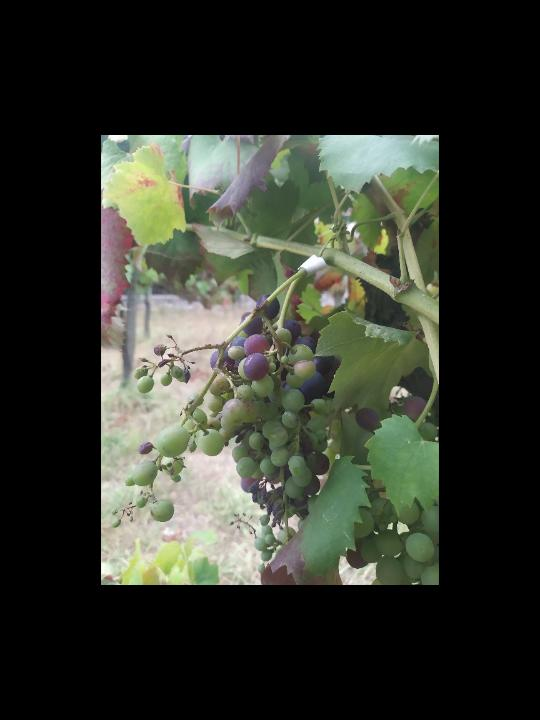grape: (110, 292, 338, 575)
